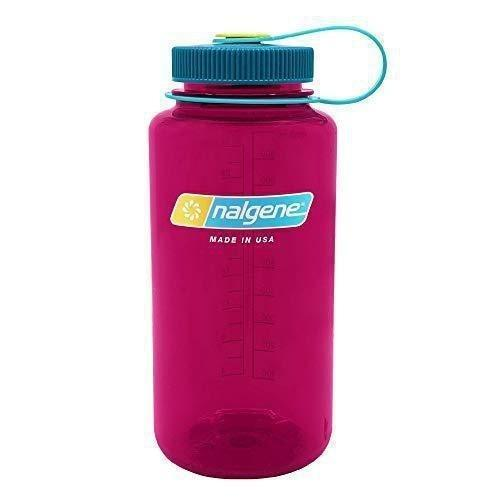gym bottle: (145, 32, 341, 480)
